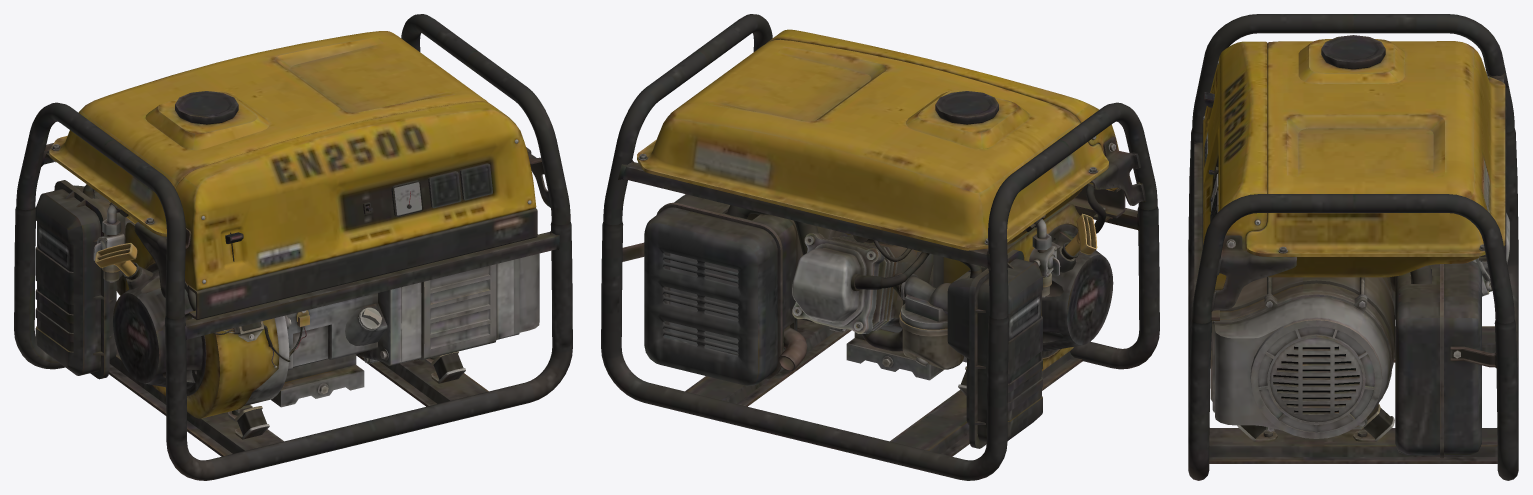
The model's file is portable_generator.glb.
3 views of the same model, side by side, from view 1: azimuth 30°, elevation 25°; view 2: azimuth 150°, elevation 25°; view 3: azimuth 270°, elevation 25° (orthographic).
Visible parts, largest first — view 1: portable_generator; view 2: portable_generator; view 3: portable_generator.
Part boxes in pixels (<box>): portable_generator: <box>14,14,572,480</box>; portable_generator: <box>601,14,1159,480</box>; portable_generator: <box>1188,14,1518,480</box>.
Size of the model in its own units: 0.8183 by 0.577 by 0.564.
2 materials, 2 textured.
